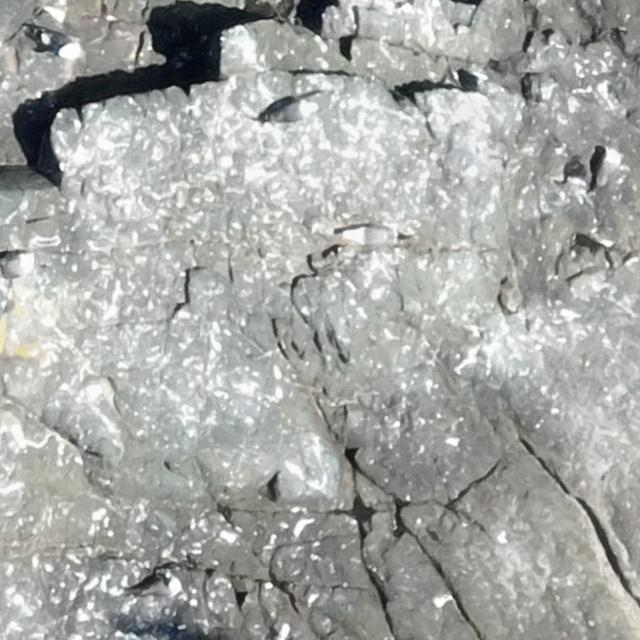umineko: (268, 98, 323, 126), (32, 26, 80, 58), (139, 575, 183, 601), (342, 226, 405, 244), (597, 148, 623, 187), (2, 254, 36, 278)
